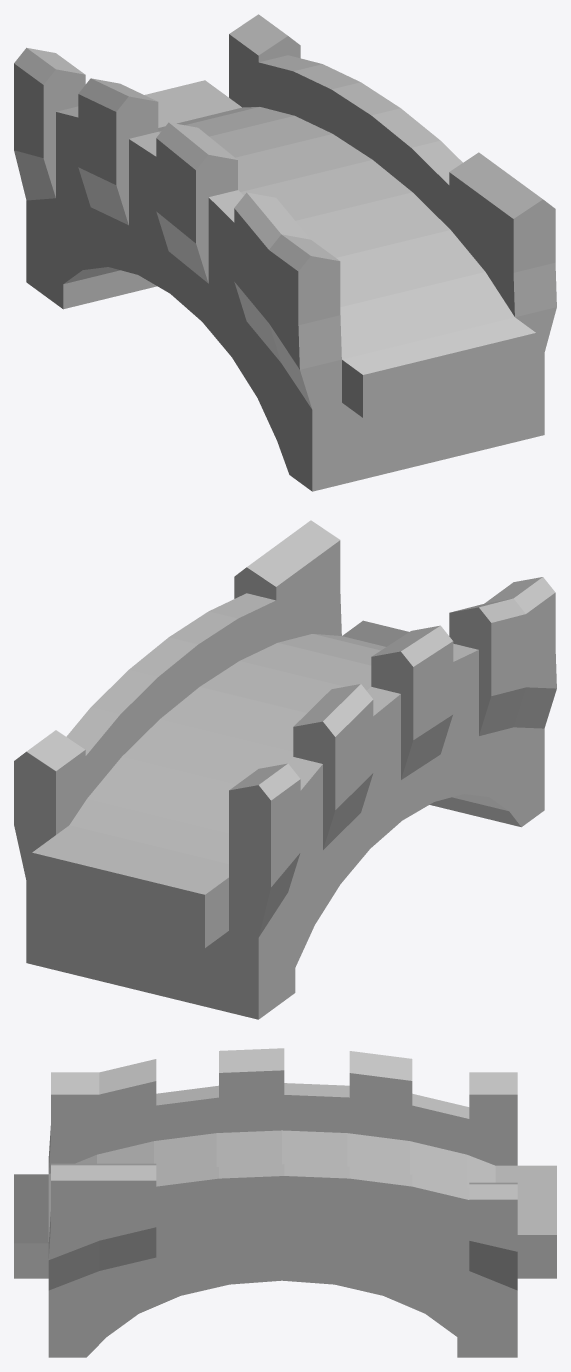
Rendered from StoneArchedBridgeSinglePiecesmall1.fbx.
3 renders of one model, top to bottom at view 1: azimuth 30°, elevation 25°; view 2: azimuth 150°, elevation 25°; view 3: azimuth 270°, elevation 25°, orthographic. The views are drawn at different scales.
Visible parts, largest first — view 1: StoneArchedBridgeSinglePiecesmall1; view 2: StoneArchedBridgeSinglePiecesmall1; view 3: StoneArchedBridgeSinglePiecesmall1.
Part boxes in pixels (<box>): StoneArchedBridgeSinglePiecesmall1: <box>14,14,556,491</box>; StoneArchedBridgeSinglePiecesmall1: <box>14,520,556,1019</box>; StoneArchedBridgeSinglePiecesmall1: <box>14,1048,556,1357</box>.
Size of the model in its own units: 619 by 608 by 1381.
1 material, 1 textured.
